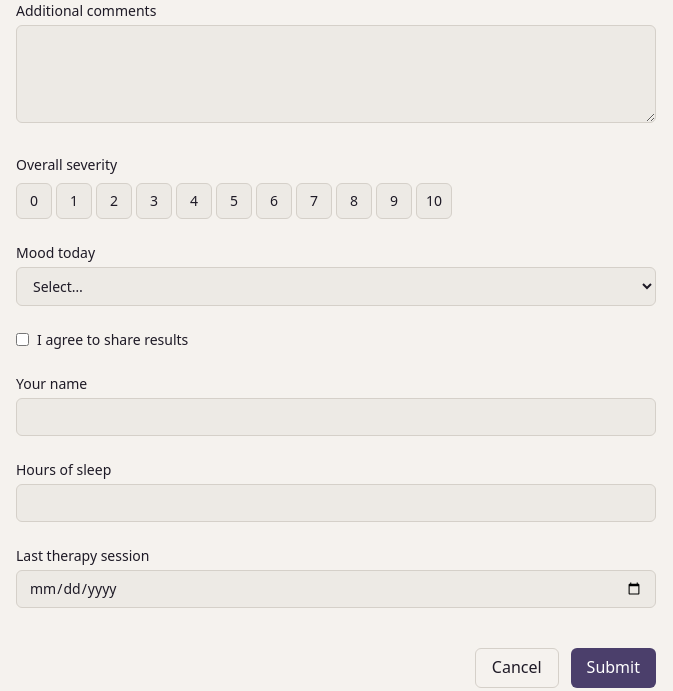
Test case: Worksheet submission page › shows submit error when submission fails
(page scrolled)
Click the button "Submit" at (613, 668), box [571,648,656,688]
(page scrolled)
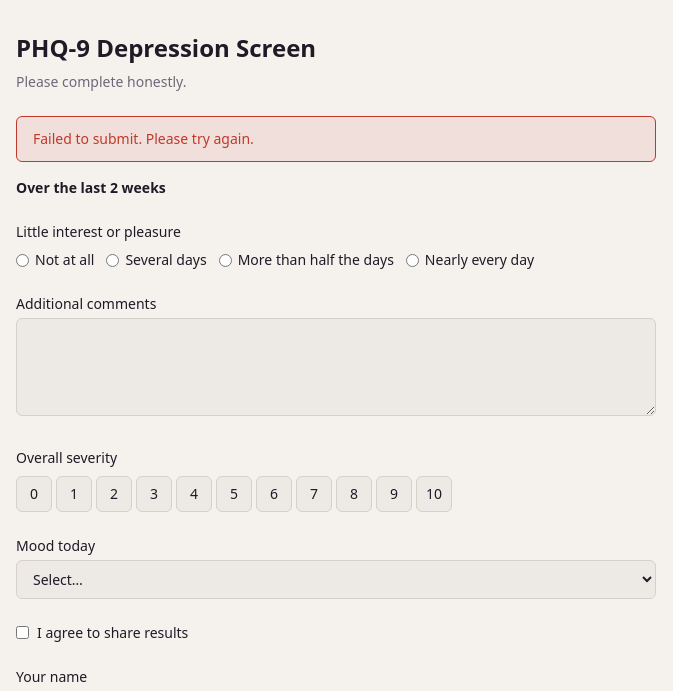
Result: the message "Failed to submit. Please try again." is shown at [16,116,656,162]
